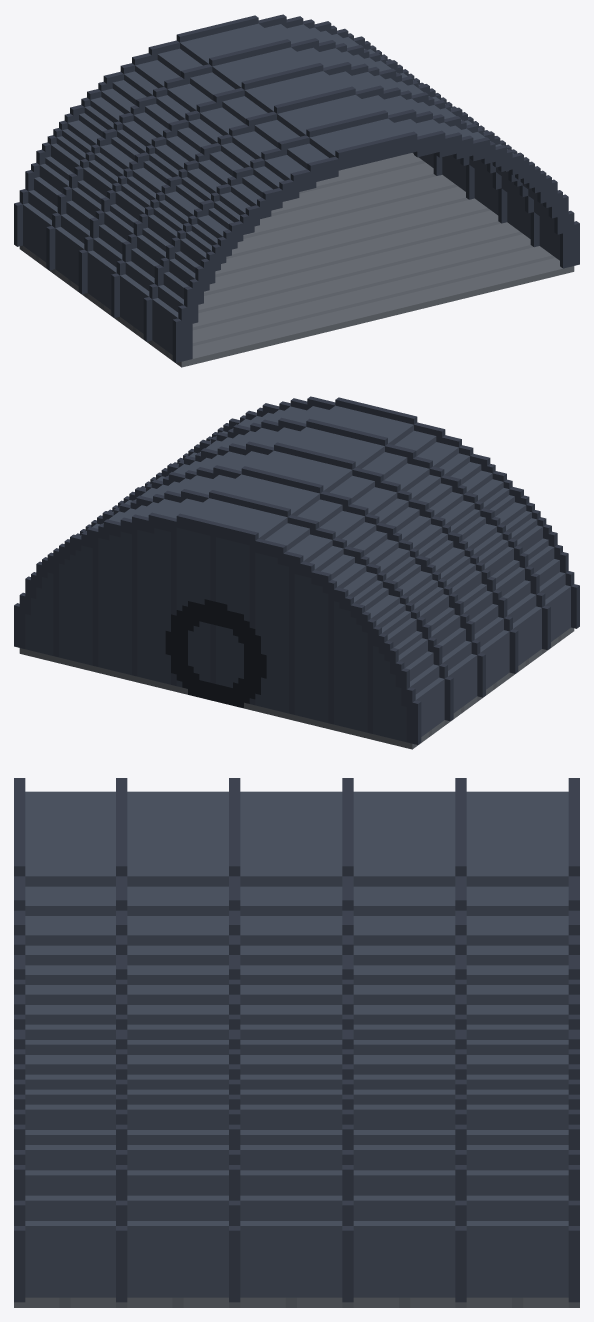
File: dome_room.glb
3 renders of one model, top to bottom at view 1: azimuth 30°, elevation 25°; view 2: azimuth 150°, elevation 25°; view 3: azimuth 270°, elevation 25°, orthographic. The views are drawn at different scales.
Visible parts, largest first — view 1: shell, floor; view 2: shell, floor; view 3: shell, floor.
Part boxes in pixels (bbox=[...]): shell: bbox=[14, 14, 579, 362]; floor: bbox=[19, 153, 574, 367]; shell: bbox=[14, 396, 579, 744]; floor: bbox=[19, 627, 574, 749]; shell: bbox=[14, 778, 579, 1302]; floor: bbox=[14, 1297, 579, 1307].
Bounding box in the file's own units: 72 × 30 × 50.
